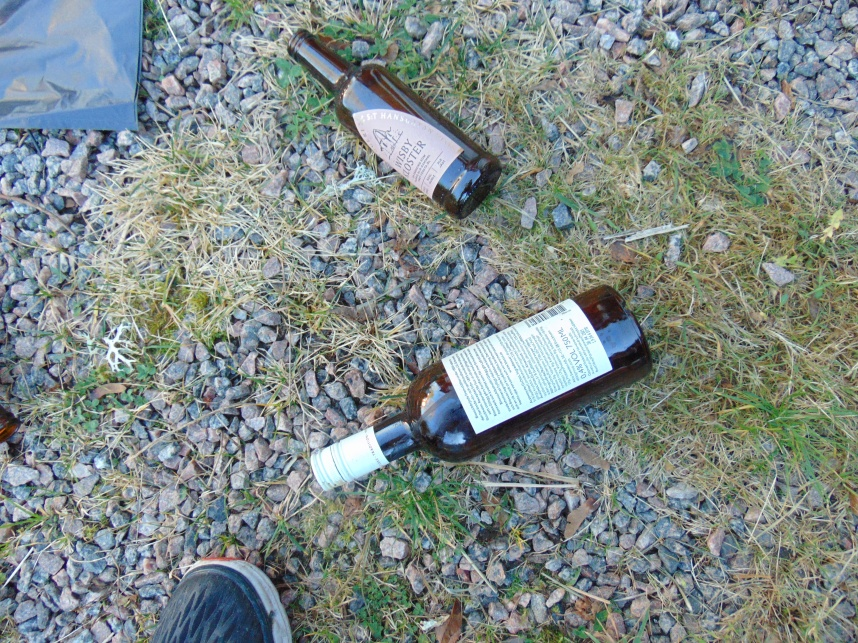glass_bottle: (308, 286, 656, 498), (287, 30, 502, 218)
